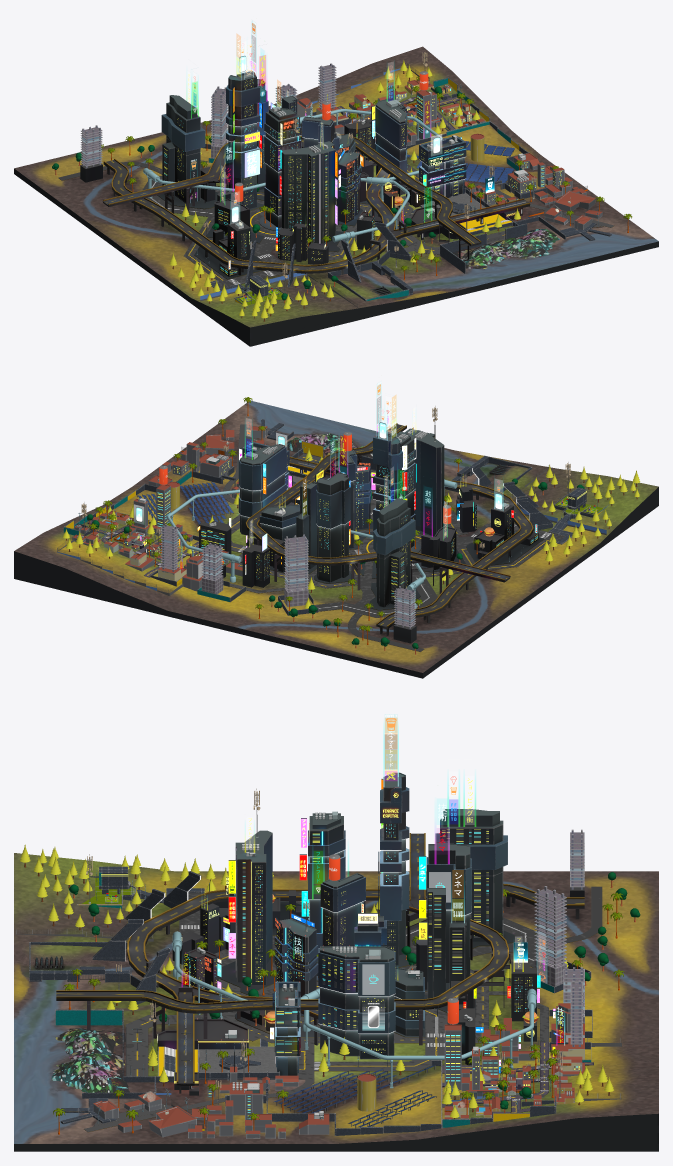
Rendered from map.glb.
3 views of the same model, one above another, from view 1: azimuth 30°, elevation 25°; view 2: azimuth 150°, elevation 25°; view 3: azimuth 270°, elevation 25° (orthographic). The views are drawn at different scales.
Visible parts, largest first — view 1: Terrain, Buildings_0, Buildings_0_1, Buildings_adds, Bridge_base, Terrain_base, Buildings_1, Trees_Terrain, Buildings_2, Buildings_Windows, Streets, Bridge_outline (+17 smaller); view 2: Terrain, Buildings_0, Buildings_0_1, Terrain_base, Buildings_adds, Streets, Trees_Terrain, Bridge_base, Buildings_2, Buildings_1, Buildings_3, Buildings_Windows (+17 smaller); view 3: Terrain, Buildings_0, Buildings_0_1, Buildings_adds, Terrain_base, Streets, Trees_Terrain, Bridge_base, Buildings_2, Buildings_Windows, Buildings_2_top, Buildings_1 (+18 smaller).
Boxes of the visible parts, left/top/right/bottom form: Terrain: left=14, top=46, right=658, bottom=327; Buildings_0: left=162, top=77, right=462, bottom=244; Buildings_0_1: left=161, top=71, right=466, bottom=215; Buildings_adds: left=202, top=77, right=611, bottom=307; Bridge_base: left=102, top=133, right=530, bottom=273; Terrain_base: left=14, top=168, right=658, bottom=346; Buildings_1: left=80, top=122, right=519, bottom=276; Trees_Terrain: left=52, top=60, right=632, bottom=321; Buildings_2: left=297, top=80, right=602, bottom=229; Buildings_Windows: left=164, top=79, right=561, bottom=275; Streets: left=58, top=139, right=614, bottom=288; Bridge_outline: left=103, top=132, right=529, bottom=271; Terrain: left=14, top=400, right=658, bottom=672; Buildings_0: left=240, top=435, right=444, bottom=607; Buildings_0_1: left=238, top=435, right=415, bottom=555; Terrain_base: left=14, top=487, right=658, bottom=678; Buildings_adds: left=63, top=419, right=608, bottom=615; Streets: left=223, top=424, right=564, bottom=651; Trees_Terrain: left=63, top=397, right=640, bottom=654; Bridge_base: left=245, top=424, right=533, bottom=629; Buildings_2: left=72, top=426, right=267, bottom=591; Buildings_1: left=199, top=488, right=538, bottom=643; Buildings_3: left=160, top=524, right=415, bottom=628; Buildings_Windows: left=95, top=446, right=537, bottom=600; Terrain: left=14, top=853, right=658, bottom=1143; Buildings_0: left=235, top=776, right=503, bottom=1075; Buildings_0_1: left=274, top=777, right=507, bottom=1075; Buildings_adds: left=29, top=866, right=592, bottom=1135; Terrain_base: left=14, top=1113, right=658, bottom=1151; Streets: left=84, top=886, right=602, bottom=1131; Trees_Terrain: left=20, top=844, right=640, bottom=1134; Bridge_base: left=56, top=833, right=584, bottom=1085; Buildings_2: left=93, top=1005, right=584, bottom=1138; Buildings_Windows: left=184, top=824, right=579, bottom=1118; Buildings_2_top: left=93, top=1003, right=584, bottom=1134; Buildings_1: left=157, top=890, right=584, bottom=1095.
Size of the model in its own units: 100000 by 45561 by 100000.
47 materials, 39 textured.
